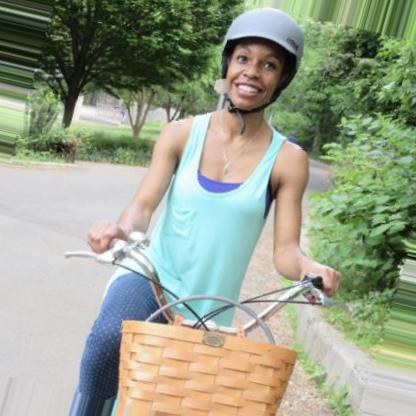with helmet: (219, 6, 304, 117)
